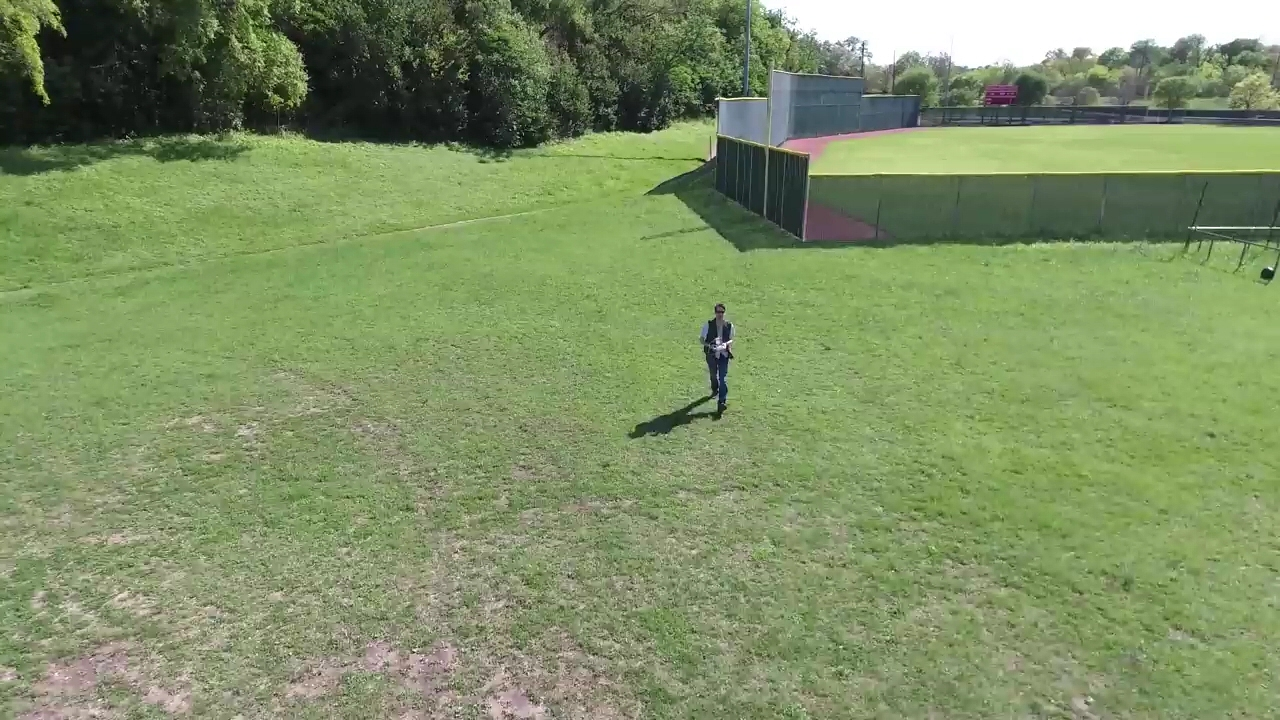insan: (701, 301, 736, 417)
